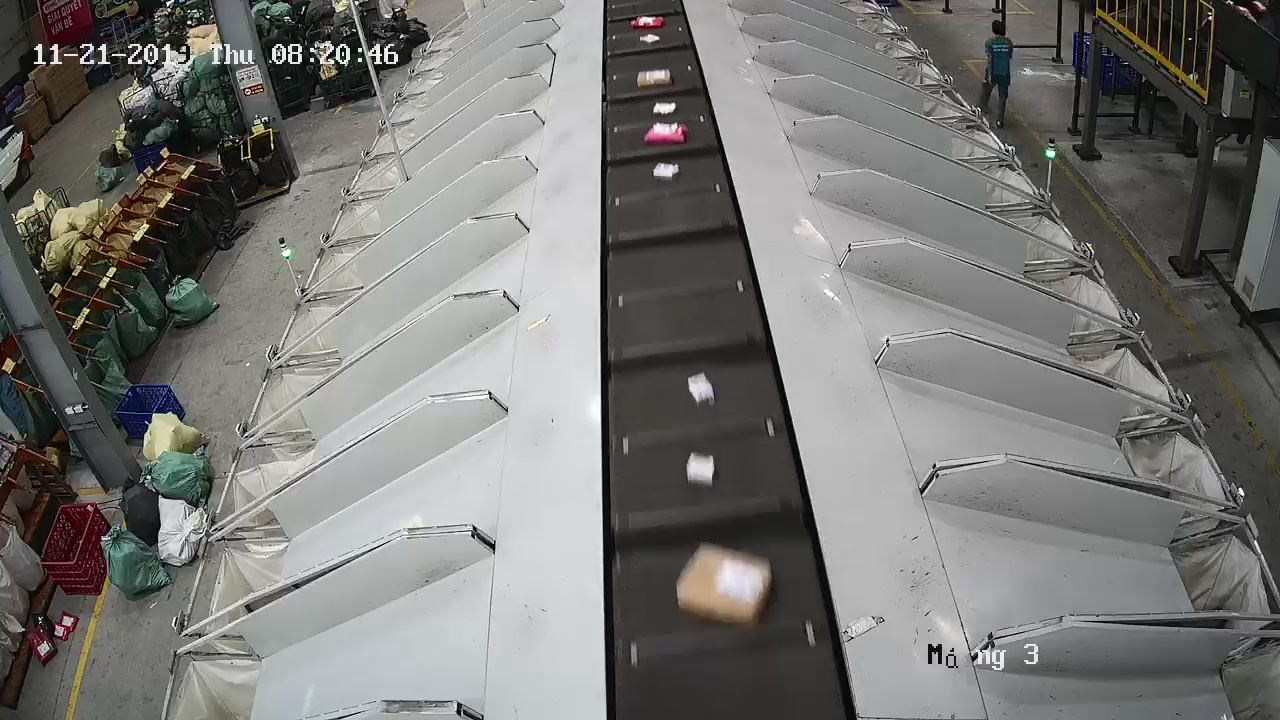parcel: (675, 540, 777, 632), (685, 371, 720, 409), (686, 450, 718, 489)
